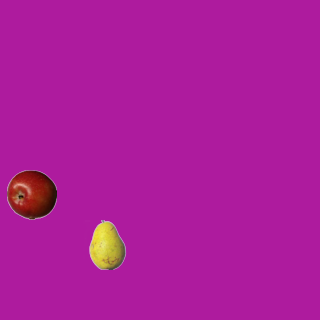Apple Braeburn: (6, 169, 56, 219)
Pear Monster: (82, 219, 132, 269)
